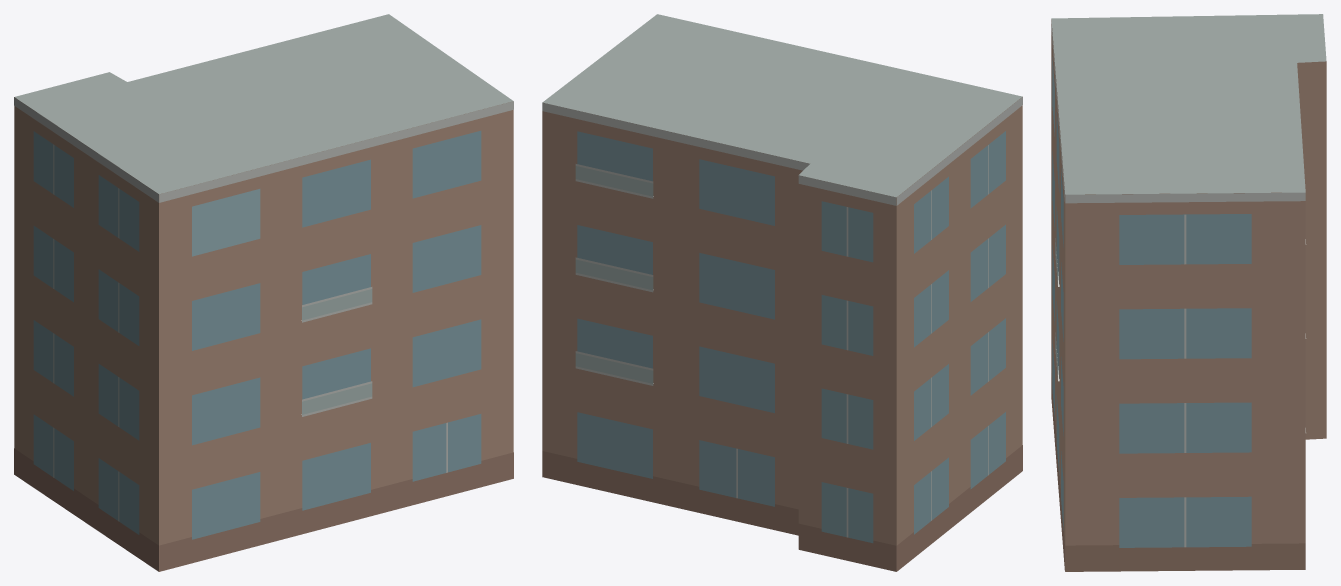
File: survey-upis-32986736.glb
3 renders of one model, left to right at view 1: azimuth 30°, elevation 25°; view 2: azimuth 150°, elevation 25°; view 3: azimuth 270°, elevation 25°, orthographic.
Visible parts, largest first — view 1: survey-upis-32986736.tmp; view 2: survey-upis-32986736.tmp; view 3: survey-upis-32986736.tmp.
Part boxes in pixels (x1,y1,x2,y2): survey-upis-32986736.tmp: [14, 14, 513, 571]; survey-upis-32986736.tmp: [542, 14, 1022, 571]; survey-upis-32986736.tmp: [1051, 14, 1326, 571].
Size of the model in its own units: 10.95 by 10.65 by 7.05.
